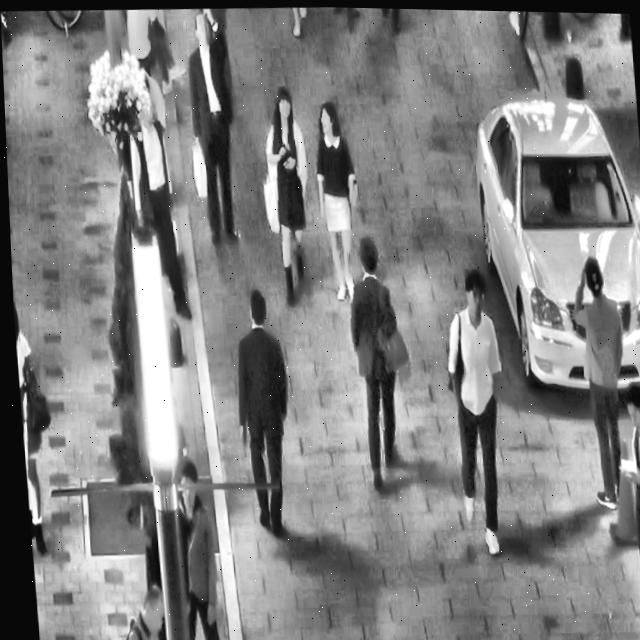light_vehicle: (461, 71, 640, 403)
